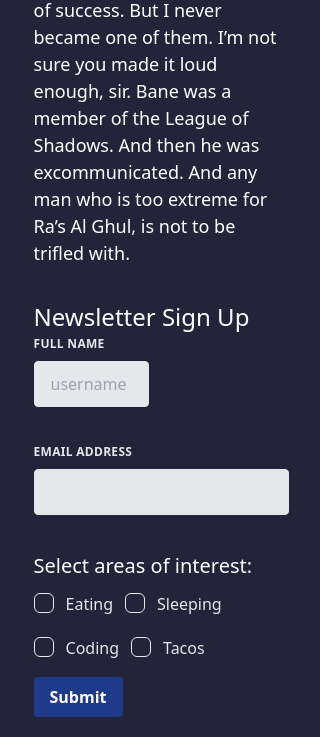
Test: a message is displayed when the user clicks the Submit button
This screenshot has width=320, height=737.
(page scrolled)
In the field labelled "Full Name": (91, 384) [34,361,149,407], type "Fname Lname"
(page scrolled)
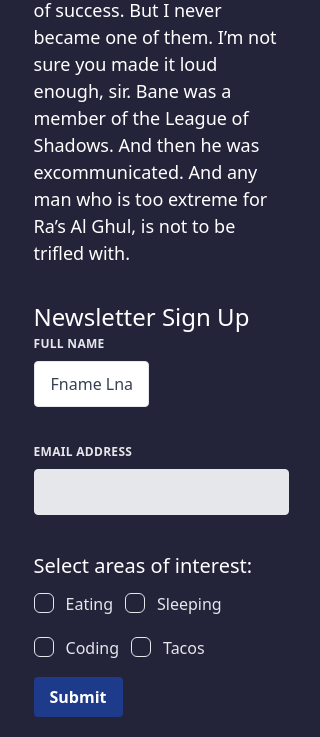
In the field labelled "Email Address": (161, 492) [34,469,288,515], type "fnamelname@email.com"
(page scrolled)
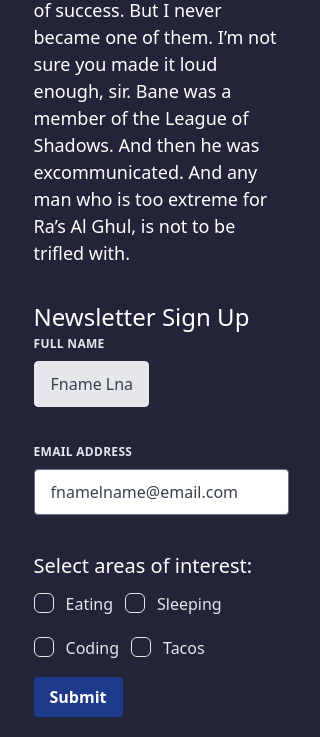
Click the checkbox named "Eating": (44, 603) [34,593,54,613]
(page scrolled)
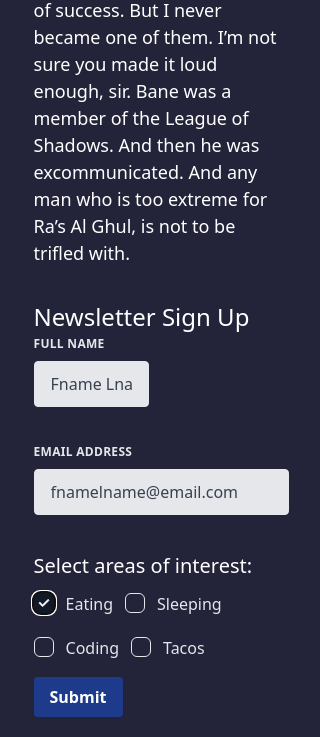
Click the checkbox named "Sleeping": (135, 603) [125,593,145,613]
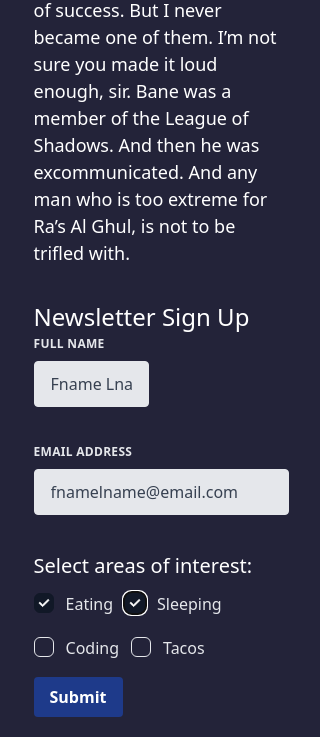
Click the button "Submit": (78, 697) [34,677,122,717]
(page scrolled)
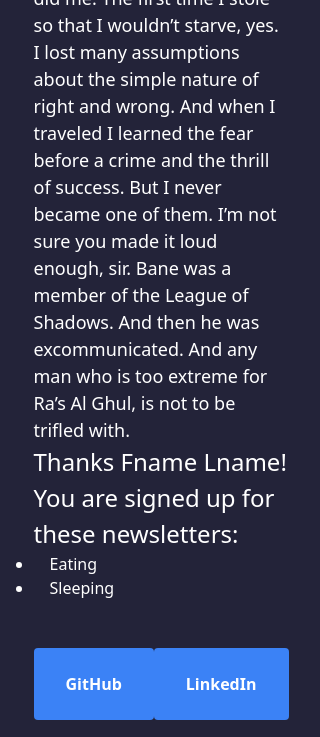
Expected: the list item "Eating" is shown, [50,553,97,575]
Expected: the text "Thanks Fname Lname! You are signed up for these newsletters:" is shown, [34,444,288,552]
Expected: the number of list items is 2, [50,553,97,575]; [50,577,114,599]
